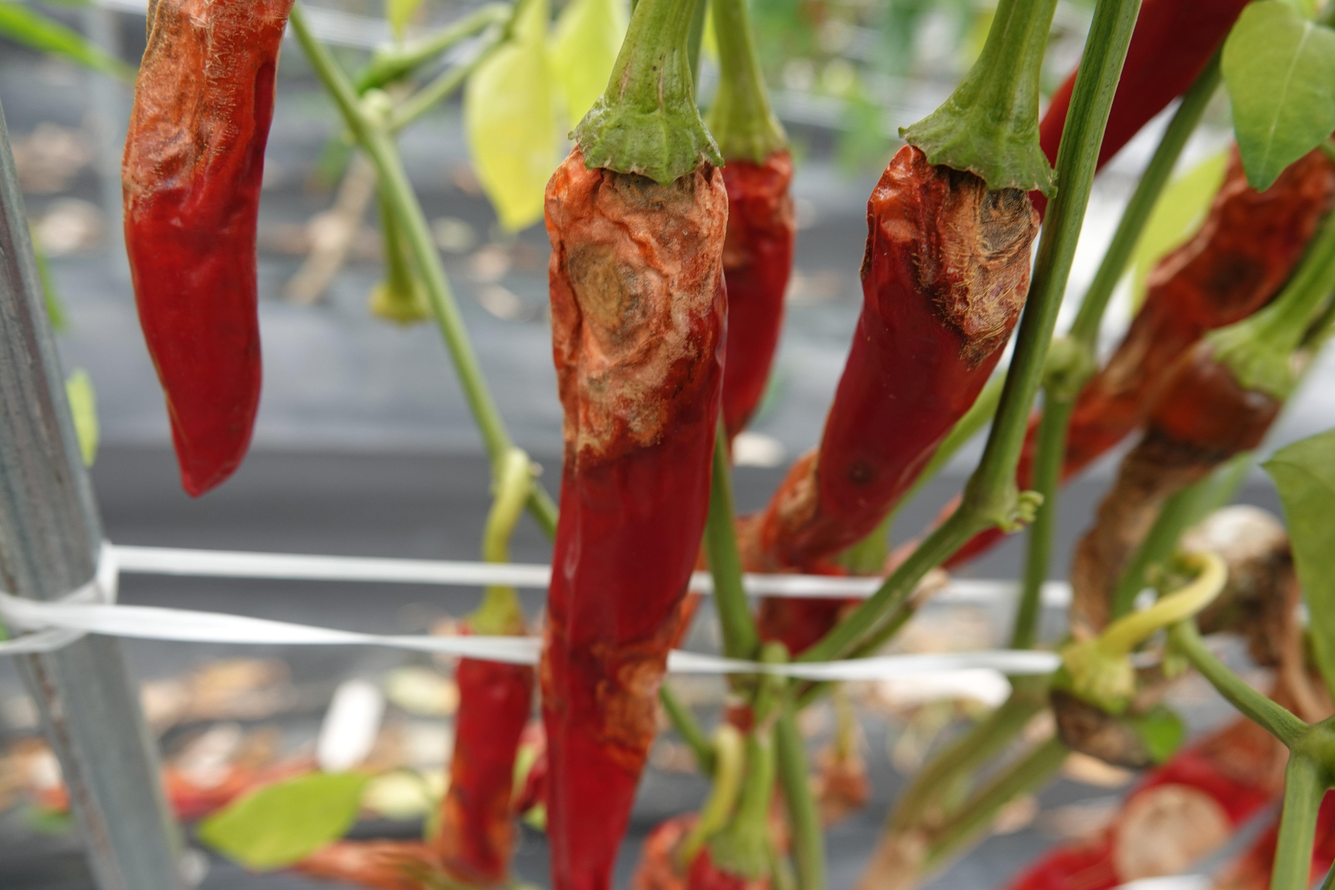Busuk Buah Antraknosa: (537, 98, 743, 890), (781, 103, 1062, 600), (118, 1, 296, 498)
